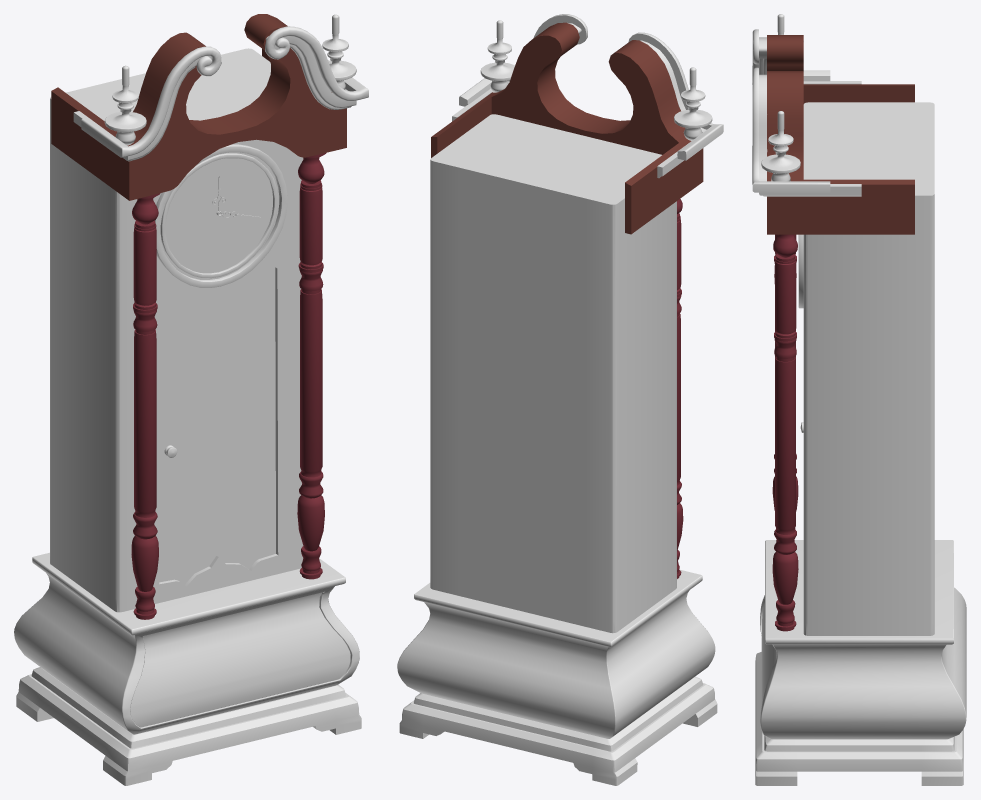
File: relogio.fbx
3 views of the same model, side by side, from view 1: azimuth 30°, elevation 25°; view 2: azimuth 150°, elevation 25°; view 3: azimuth 270°, elevation 25° (orthographic). The views are drawn at different scales.
Parts seen in each view (by area): view 1: no faces on clock, no faces on clock.001, Cube, Cylinder.005, head_LP, gaveta_lp, Cube.001, Cube.006, horns_LP, Cube.005; view 2: no faces on clock, Cube, head_LP, Cube.001, Cube.006, horns_LP, Cylinder.005, Cube.005; view 3: no faces on clock, Cube, head_LP, Cube.001, Cylinder.005, Cube.006, Cube.005, horns_LP, gaveta_lp.
Boxes of the visible parts, x1=… form: no faces on clock: x1=50, y1=48, x2=303, y2=612; no faces on clock.001: x1=159, y1=266, x2=275, y2=584; Cube: x1=14, y1=552, x2=359, y2=734; Cylinder.005: x1=131, y1=152, x2=326, y2=619; head_LP: x1=51, y1=14, x2=346, y2=200; gaveta_lp: x1=130, y1=592, x2=350, y2=727; Cube.001: x1=16, y1=667, x2=361, y2=785; Cube.006: x1=81, y1=26, x2=368, y2=157; horns_LP: x1=104, y1=14, x2=356, y2=145; Cube.005: x1=73, y1=36, x2=356, y2=161; no faces on clock: x1=430, y1=114, x2=676, y2=633; Cube: x1=397, y1=569, x2=715, y2=738; head_LP: x1=431, y1=22, x2=703, y2=234; Cube.001: x1=399, y1=677, x2=717, y2=785; Cube.006: x1=459, y1=14, x2=723, y2=160; horns_LP: x1=480, y1=20, x2=712, y2=140; Cylinder.005: x1=677, y1=199, x2=683, y2=578; Cube.005: x1=452, y1=23, x2=706, y2=178; no faces on clock: x1=798, y1=102, x2=934, y2=635; Cube: x1=760, y1=540, x2=966, y2=739; head_LP: x1=767, y1=35, x2=914, y2=234; Cube.001: x1=755, y1=652, x2=963, y2=785; Cylinder.005: x1=772, y1=234, x2=798, y2=631; Cube.006: x1=752, y1=29, x2=830, y2=192; Cube.005: x1=759, y1=37, x2=861, y2=196; horns_LP: x1=761, y1=14, x2=800, y2=181; gaveta_lp: x1=762, y1=603, x2=776, y2=703.
Bounding box in the file's own units: 86.49 × 241 × 68.7.
